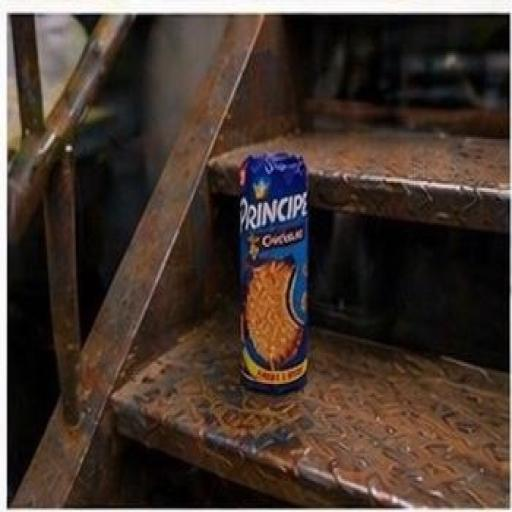prince: (194, 104, 365, 486)
